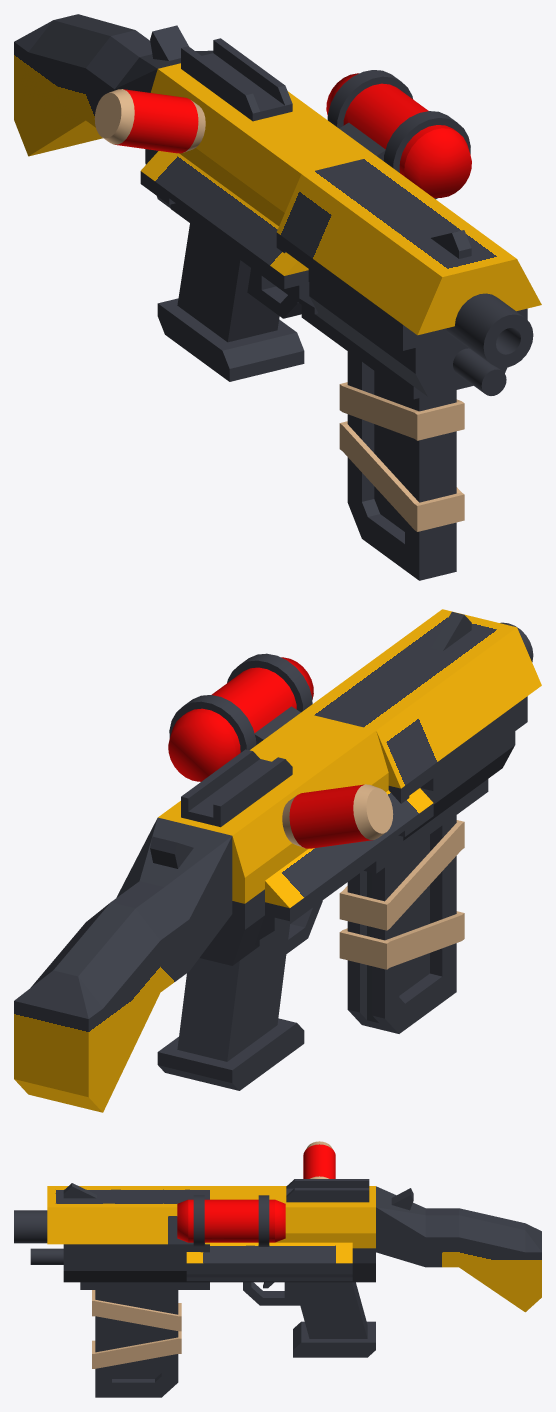
Rendered from SM_GasSMG_withmag.fbx.
3 views of the same model, one above another, from view 1: azimuth 30°, elevation 25°; view 2: azimuth 150°, elevation 25°; view 3: azimuth 270°, elevation 25° (orthographic). The views are drawn at different scales.
Visible parts, largest first — view 1: largeBlaster_barrelAssault, mediumBlaster_handle, clip_tape, largeBlaster_centerDetail (×2), stock_solid, attachment_barrel, attachment_handle, detailRail_front, detailTargetSightFront; view 2: stock_solid, mediumBlaster_handle, largeBlaster_barrelAssault, clip_tape, largeBlaster_centerDetail (×2), attachment_barrel, attachment_handle, detailRail_front, detailTargetSightFront; view 3: largeBlaster_barrelAssault, mediumBlaster_handle, stock_solid, clip_tape, largeBlaster_centerDetail (×2), attachment_barrel, detailRail_front, attachment_handle, detailTargetSightFront.
Part boxes in pixels (<box>): largeBlaster_barrelAssault: <box>317,185,541,399</box>; mediumBlaster_handle: <box>145,63,375,381</box>; clip_tape: <box>339,351,464,580</box>; largeBlaster_centerDetail (×2): <box>140,151,415,346</box>; stock_solid: <box>14,14,213,156</box>; attachment_barrel: <box>326,70,471,199</box>; attachment_handle: <box>94,89,205,153</box>; detailRail_front: <box>181,38,292,121</box>; detailTargetSightFront: <box>431,230,471,258</box>; stock_solid: <box>14,817,232,1112</box>; mediumBlaster_handle: <box>157,712,388,1090</box>; largeBlaster_barrelAssault: <box>342,609,541,843</box>; clip_tape: <box>339,815,464,1033</box>; largeBlaster_centerDetail (×2): <box>255,683,441,946</box>; attachment_barrel: <box>168,653,313,781</box>; attachment_handle: <box>282,784,393,848</box>; detailRail_front: <box>181,749,292,827</box>; detailTargetSightFront: <box>430,611,471,651</box>; largeBlaster_barrelAssault: <box>14,1186,163,1289</box>; mediumBlaster_handle: <box>210,1186,375,1357</box>; stock_solid: <box>376,1186,541,1312</box>; clip_tape: <box>92,1290,181,1397</box>; largeBlaster_centerDetail (×2): <box>163,1186,352,1289</box>; attachment_barrel: <box>177,1195,285,1246</box>; detailRail_front: <box>286,1179,369,1202</box>; attachment_handle: <box>303,1141,335,1178</box>; detailTargetSightFront: <box>63,1183,96,1198</box>.
Bounding box in the file's own units: 10.47 × 14.42 × 31.8.
